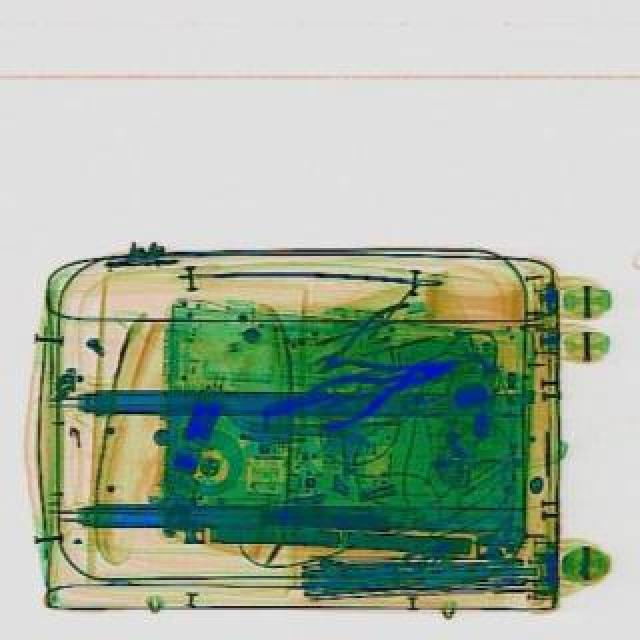wrench: (302, 338, 466, 434), (300, 298, 432, 398)
